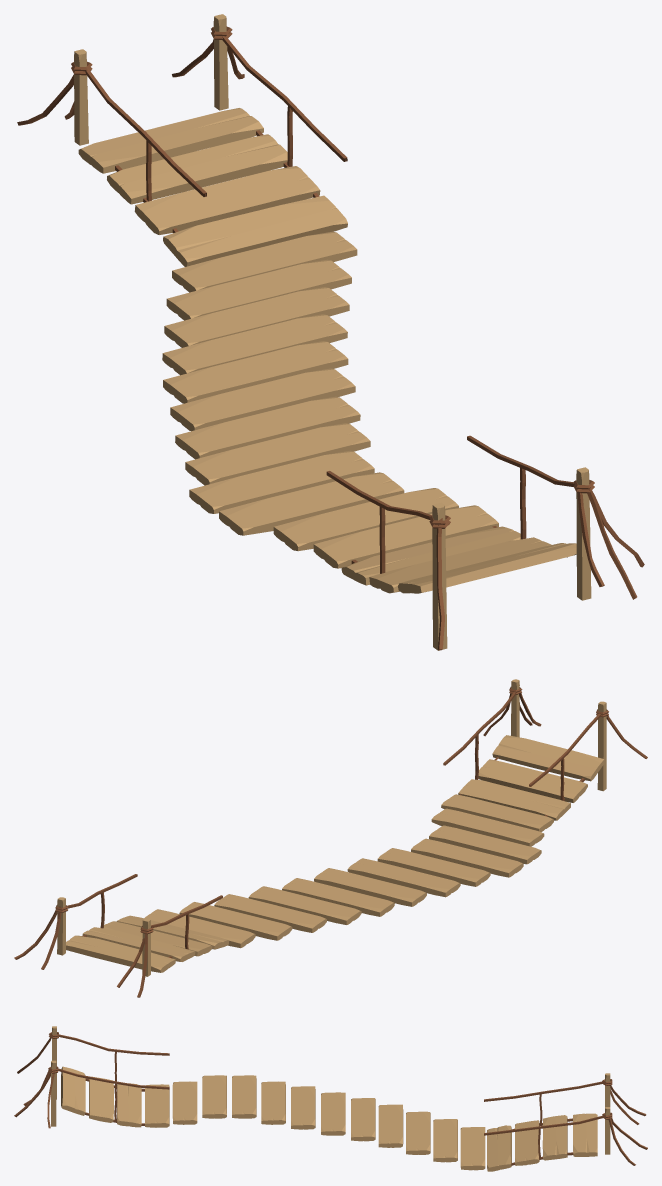
Rendered from Bridge.fbx.
3 views of the same model, one above another, from view 1: azimuth 30°, elevation 25°; view 2: azimuth 150°, elevation 25°; view 3: azimuth 270°, elevation 25° (orthographic). The views are drawn at different scales.
Parts seen in each view (by area): view 1: Cube.037, Cube.038, Cube.039, Cube.027, Cube.010, Cube.011, Cube.009, Cube.008, Cube.042, Cube.043, Cube.031, Cube.041 (+13 smaller); view 2: Cube.033, Cube.034, Cube.035, Cube.009, Cube.010, Cube.008, Cube.042, Cube.044, Cube.043, Cube.011, Cube.031, Cube.032 (+8 smaller); view 3: Cube.031, Cube.044, Cube.041, Cube.009, Cube.043, Cube.010, Cube.042, Cube.008, Cube.011, Cube.032, Cube.040, Cube.039 (+13 smaller).
Part boxes in pixels (x1,y1,x2,y2): Cube.037: [163, 195, 347, 266]; Cube.038: [134, 166, 320, 234]; Cube.039: [107, 134, 287, 204]; Cube.027: [78, 108, 263, 173]; Cube.010: [170, 368, 355, 431]; Cube.011: [163, 341, 348, 403]; Cube.009: [175, 396, 360, 459]; Cube.008: [185, 423, 370, 485]; Cube.042: [189, 450, 374, 513]; Cube.043: [219, 472, 404, 535]; Cube.031: [162, 314, 347, 375]; Cube.041: [172, 231, 357, 292]; Cube.033: [492, 735, 604, 781]; Cube.034: [478, 759, 587, 802]; Cube.035: [458, 779, 570, 820]; Cube.009: [347, 858, 460, 897]; Cube.010: [314, 868, 426, 906]; Cube.008: [377, 848, 490, 886]; Cube.042: [411, 838, 523, 877]; Cube.044: [431, 808, 544, 846]; Cube.043: [429, 825, 541, 864]; Cube.011: [282, 878, 394, 916]; Cube.031: [248, 886, 361, 924]; Cube.032: [214, 894, 326, 932]; Cube.031: [378, 1104, 403, 1147]; Cube.044: [172, 1081, 197, 1124]; Cube.041: [460, 1127, 485, 1170]; Cube.009: [291, 1086, 315, 1129]; Cube.043: [202, 1075, 226, 1118]; Cube.010: [321, 1092, 345, 1135]; Cube.042: [232, 1075, 256, 1118]; Cube.008: [261, 1081, 285, 1124]; Cube.011: [351, 1098, 375, 1141]; Cube.032: [406, 1111, 430, 1154]; Cube.040: [433, 1119, 457, 1162]; Cube.039: [542, 1115, 567, 1160].
Bounding box in the file's own units: 1123 × 357 × 2843.
